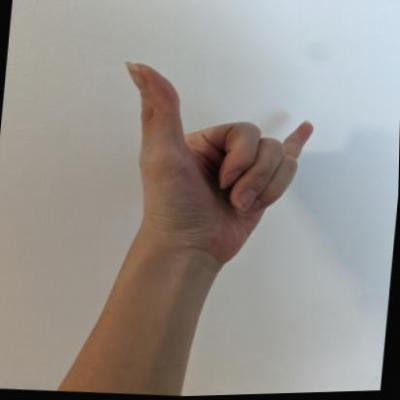hand: (105, 54, 324, 274)
